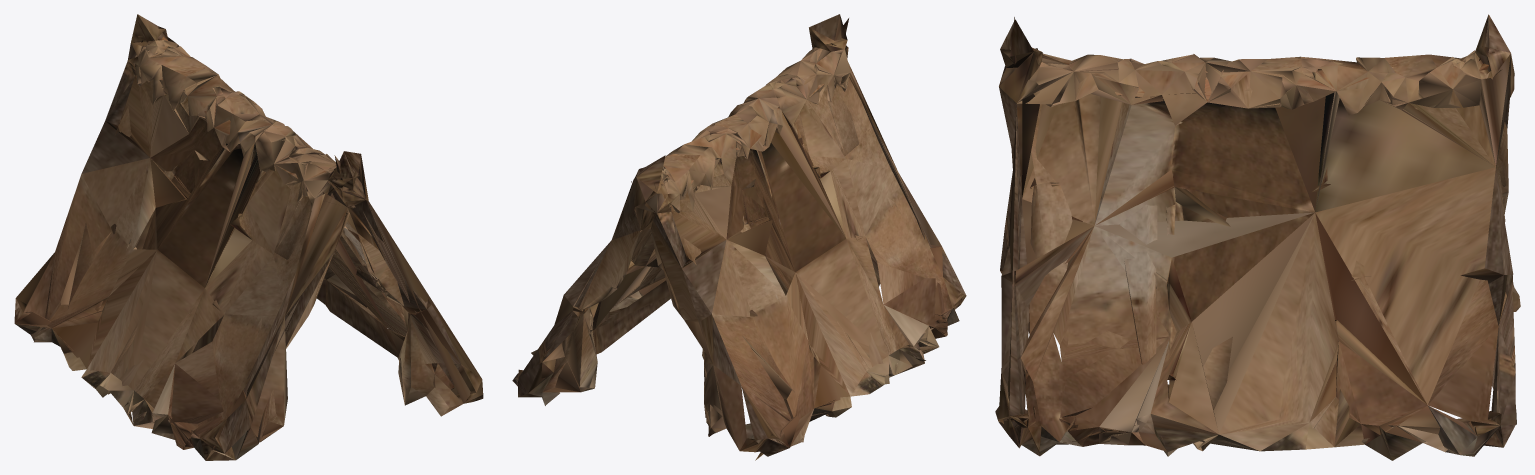
3 renders of one model, left to right at view 1: azimuth 30°, elevation 25°; view 2: azimuth 150°, elevation 25°; view 3: azimuth 270°, elevation 25°, orthographic. The views are drawn at different scales.
Parts seen in each view (by area): view 1: Dense.001; view 2: Dense.001; view 3: Dense.001.
Part boxes in pixels (<box>): Dense.001: <box>14,14,483,460</box>; Dense.001: <box>512,14,966,460</box>; Dense.001: <box>995,14,1520,460</box>.
Size of the model in its own units: 3.53 by 3.06 by 4.13.
1 material, 1 textured.
